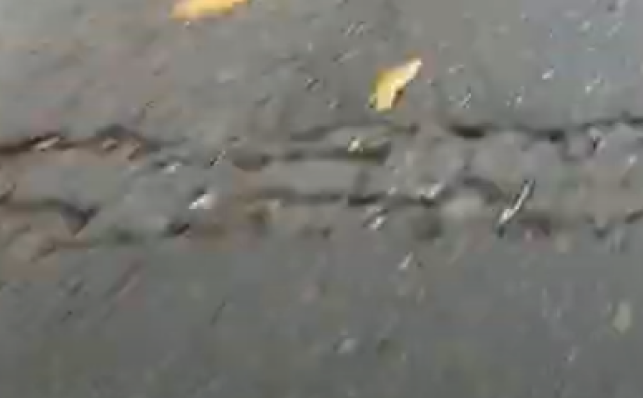Retak Melintang: (1, 99, 643, 290)
